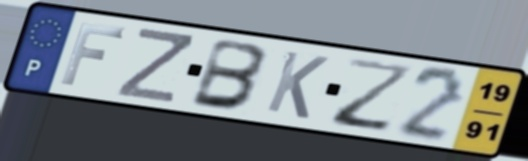2: (394, 63, 473, 145)
B: (187, 36, 272, 113)
F: (57, 20, 129, 88)
K: (262, 48, 332, 122)
Z: (328, 56, 416, 135), (113, 25, 197, 105)
